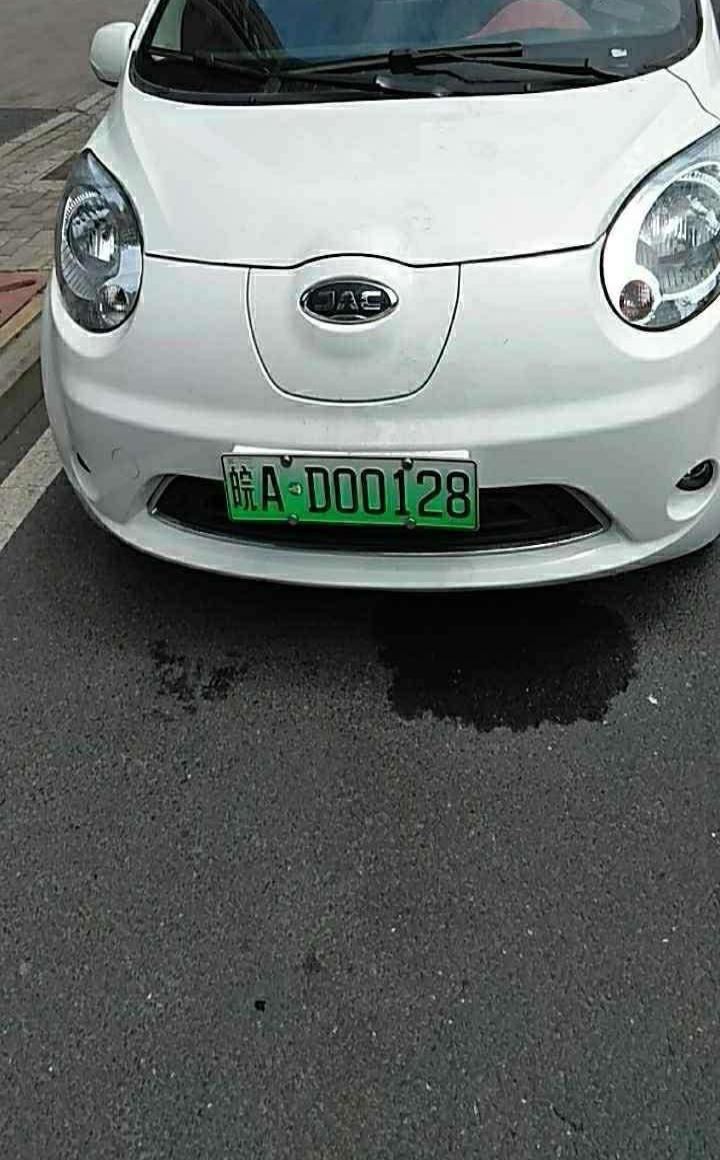car_id: (218, 461, 476, 529)
